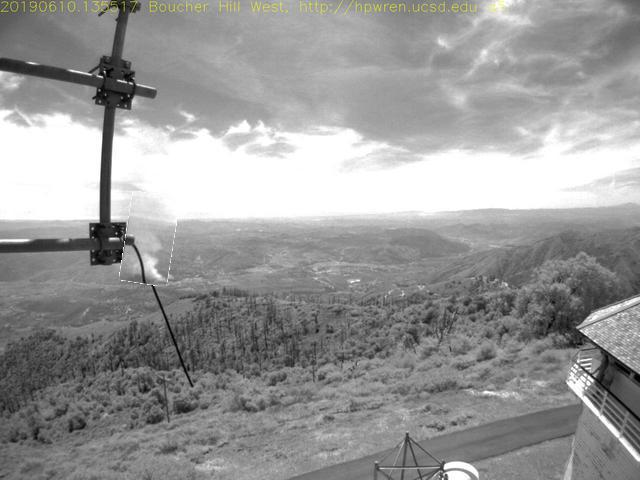smoke: (124, 194, 178, 287)
